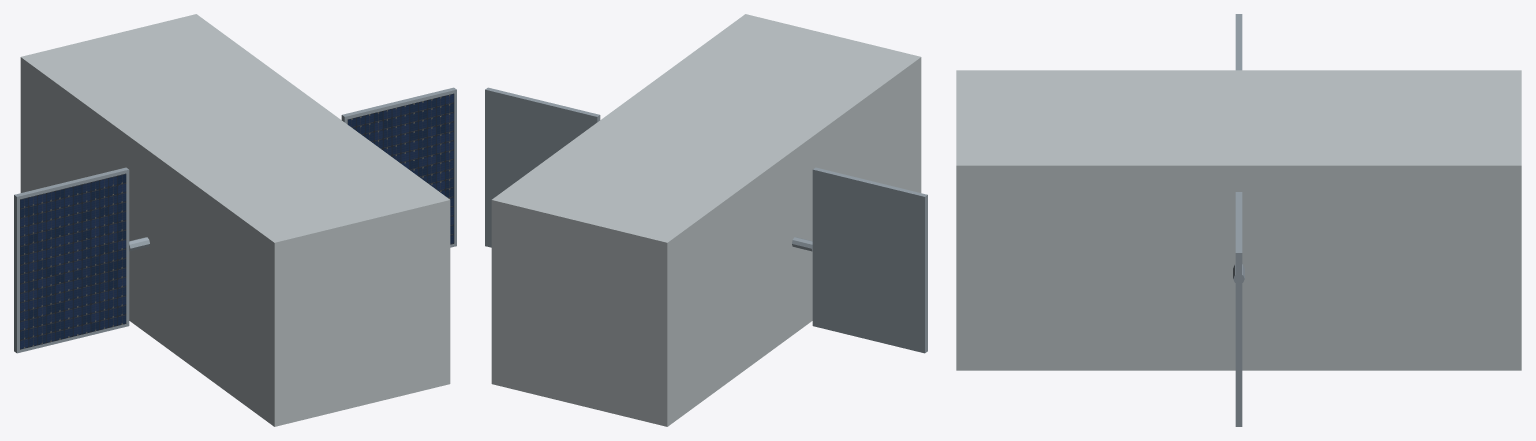
The model's file is ref-mn30-58821.glb.
3 renders of one model, left to right at view 1: azimuth 30°, elevation 25°; view 2: azimuth 150°, elevation 25°; view 3: azimuth 270°, elevation 25°, orthographic. The views are drawn at different scales.
Visible parts, largest first — view 1: Spacecraft body, Photovoltaic laminates (×2), Array frame (×2); view 2: Spacecraft body, Array frame (×2); view 3: Spacecraft body, Array frame.
Boxes of the visible parts, x1,y1,x2,y2 form: Spacecraft body: (20, 14, 450, 426); Photovoltaic laminates (×2): (20, 93, 454, 349); Array frame (×2): (14, 87, 456, 353); Spacecraft body: (491, 14, 921, 426); Array frame (×2): (485, 87, 927, 353); Spacecraft body: (956, 70, 1521, 370); Array frame: (1235, 192, 1242, 426).
Size of the model in its own units: 0.5 by 0.2 by 0.5.
3 materials, 1 textured.
